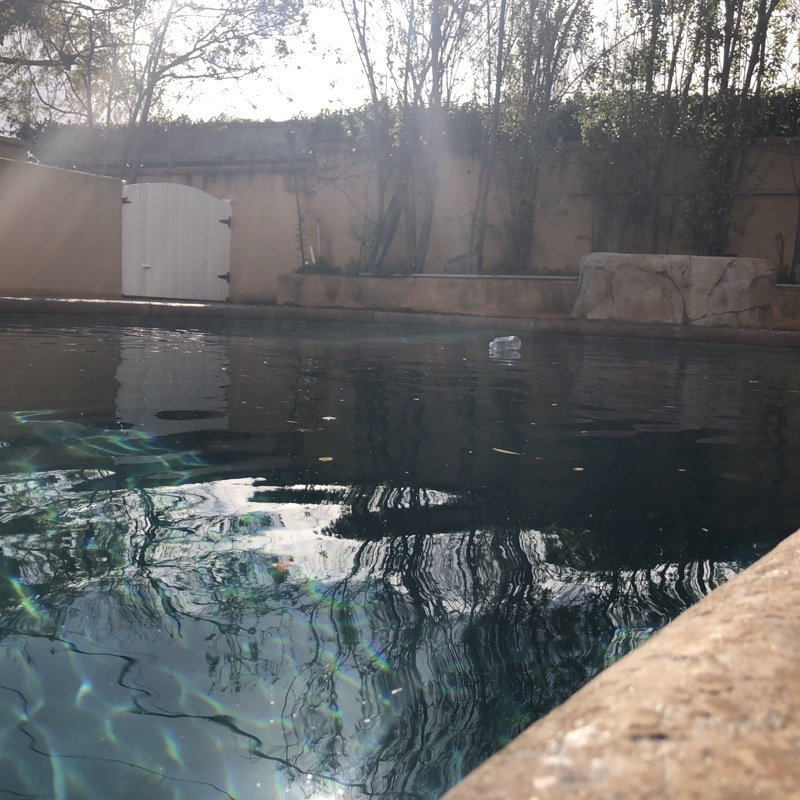Plastic Bottle: (488, 336, 521, 353)
